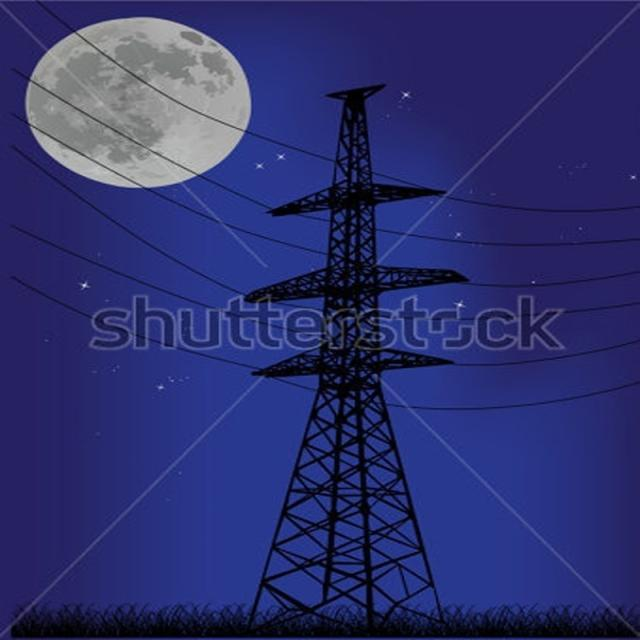non-critical vegetation: (284, 81, 429, 588)
